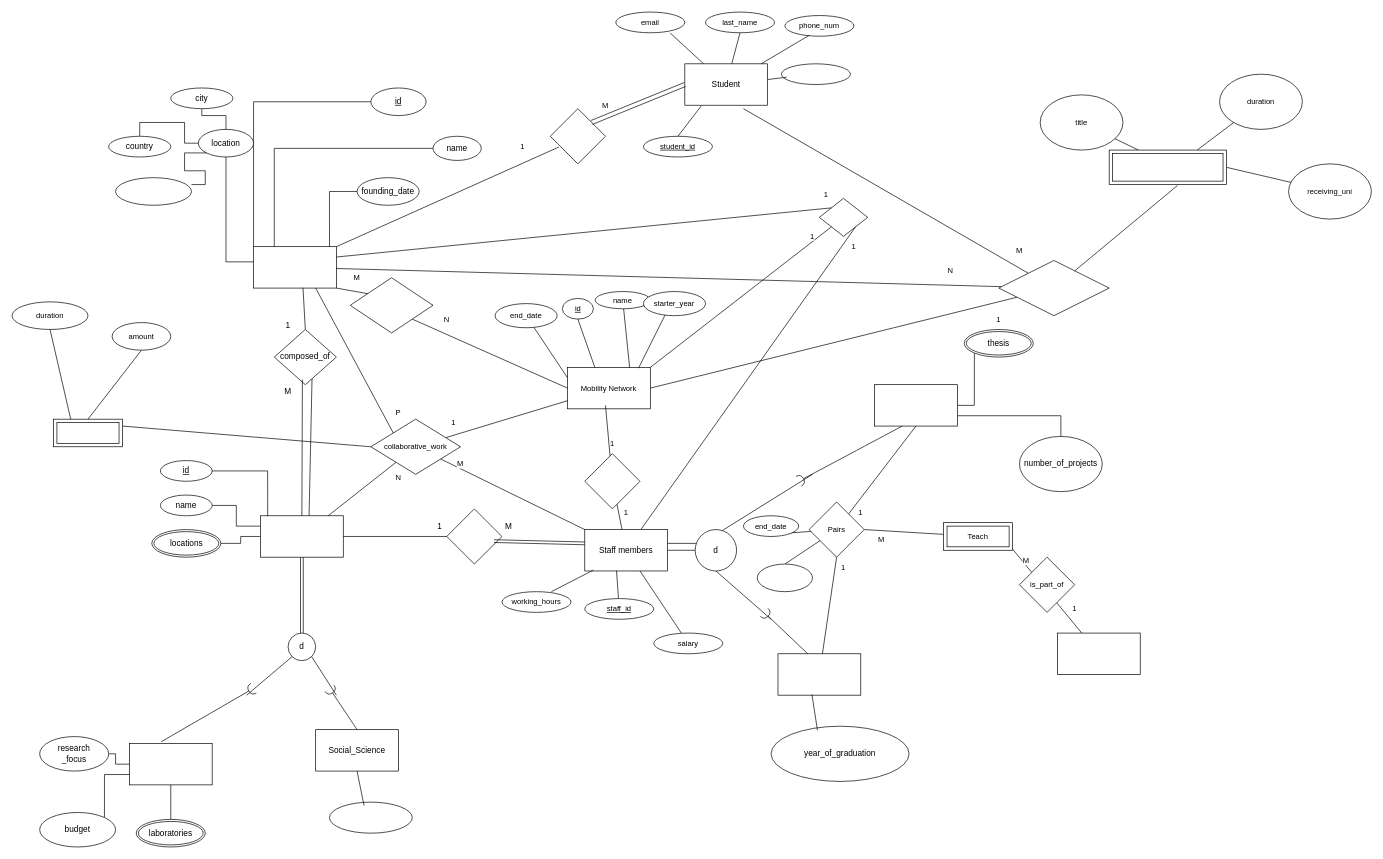
Some shapes in this 1383 by 859 pixel diagram are drawn without their labels. The shapes that lost their labels are listed below. From the top down, each one's centre as x and y in pixels, then its label:
pixel 815 74: first_name
pixel 577 136: Enrolled_At
pixel 1167 167: Student_mobility_project
pixel 153 191: address
pixel 843 217: head_of
pixel 294 267: University
pixel 391 305: participates_in
pixel 1053 288: Takes_part_on_project
pixel 915 405: Professor
pixel 87 432: Issued Grant
pixel 612 481: Record
pixel 301 536: Institute
pixel 474 536: has
pixel 784 577: start_date
pixel 1098 653: Course
pixel 819 674: Assistant
pixel 170 764: Natural_Science
pixel 370 817: num_of_events
